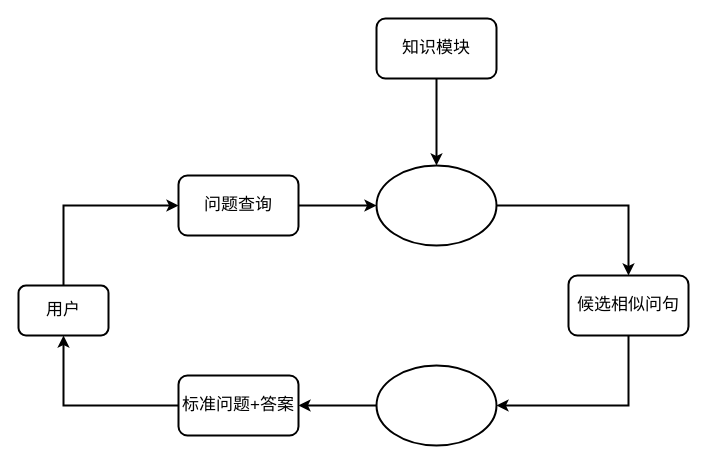
Image size: 706x463. Some labels were removed from this diagram. Here are the shapes that lost their labels. From the top down, the centre of each, then its label:
At (x=436, y=205): "检索模块".
At (x=436, y=405): "相似问句选择".
